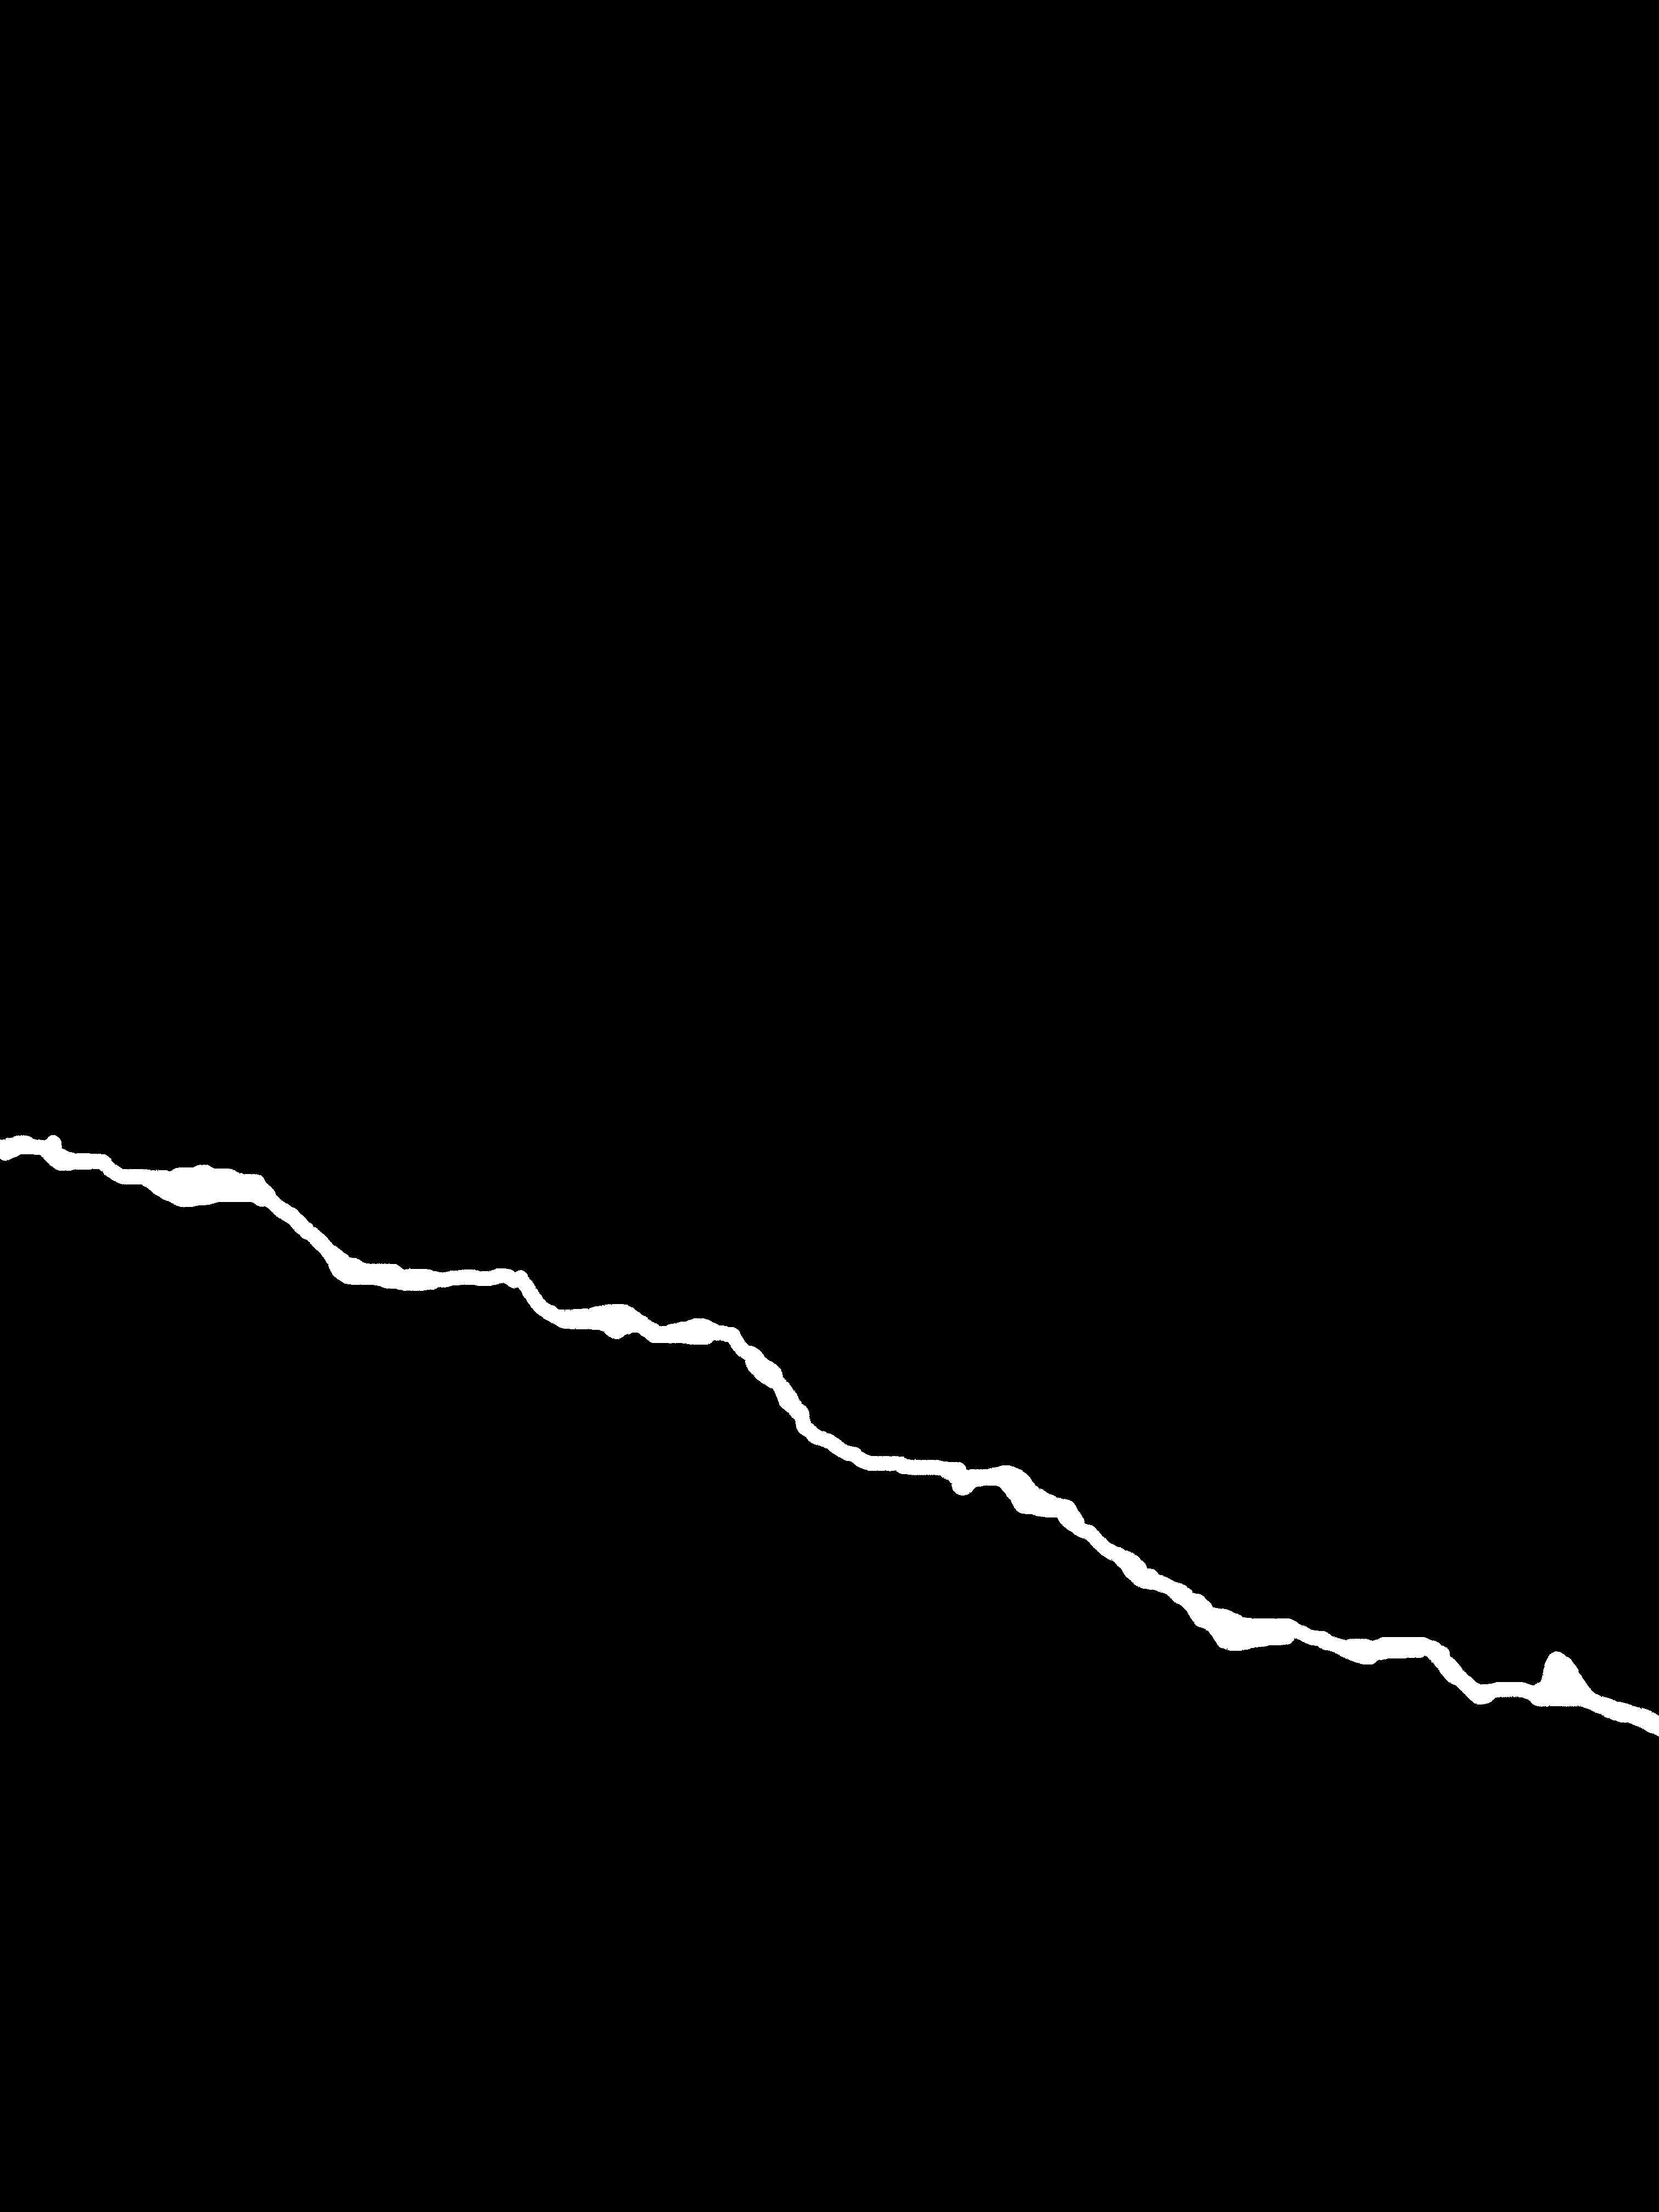Crack: (0, 1090, 1659, 1756)
